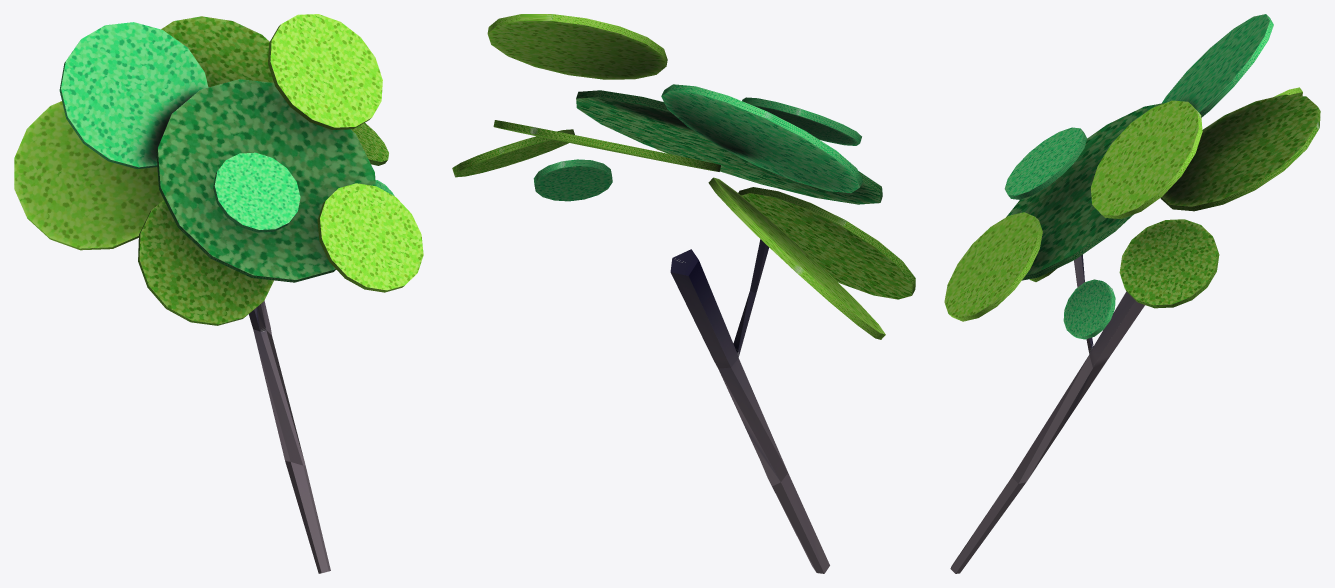
The model's file is tree3.fbx.
3 views of the same model, side by side, from view 1: azimuth 30°, elevation 25°; view 2: azimuth 150°, elevation 25°; view 3: azimuth 270°, elevation 25° (orthographic). The views are drawn at different scales.
Parts seen in each view (by area): view 1: crown3, stem3; view 2: crown3, stem3; view 3: crown3, stem3.
Part boxes in pixels (box(x1,y1,x2,y2)): crown3: box(14, 14, 423, 325); stem3: box(249, 300, 330, 573); crown3: box(452, 14, 915, 339); stem3: box(670, 239, 829, 573); crown3: box(944, 14, 1320, 339); stem3: box(950, 254, 1144, 573).
Size of the model in its own units: 25.64 by 34.6 by 23.1.
